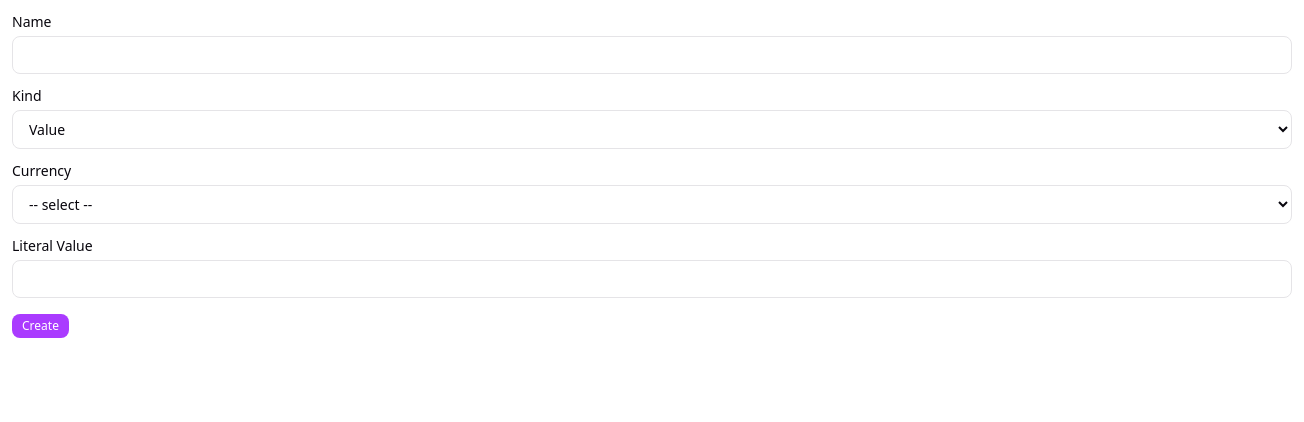
Test: ConceptForm › hides literal value field when kind is formula
Select "Formula" in the dropdown labelled "Kind" at [652, 130], box [12,110,1292,149]
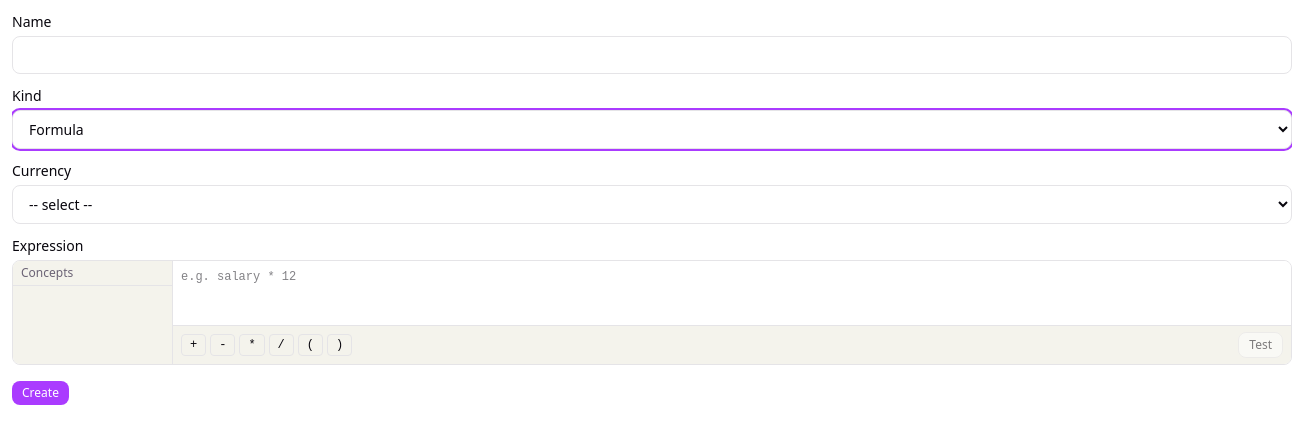
Result: the label labelled "Literal Value" is gone
